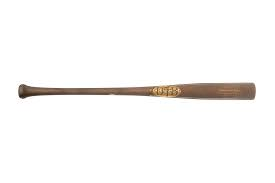baseball bat: (17, 79, 257, 104)
